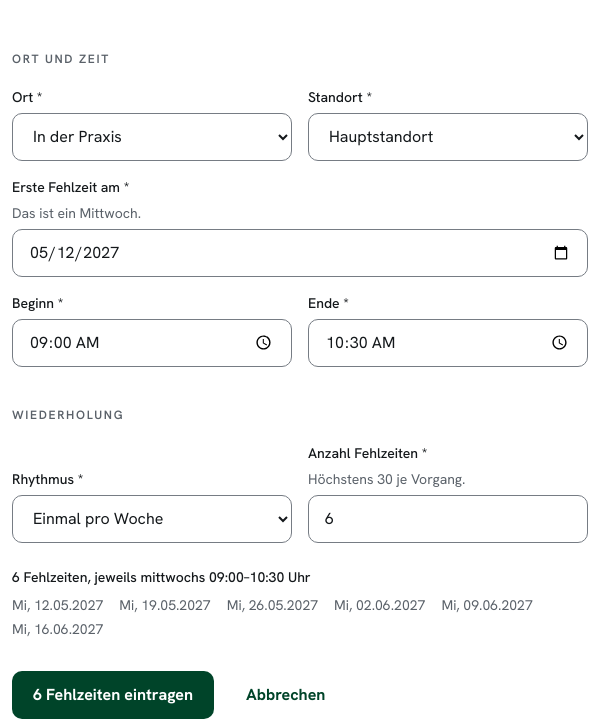
Test: NewEventPage als Dauerfehlzeit › meldet fehlende Pflichtangaben inline und sendet nicht
The image size is (605, 719).
(page scrolled)
Click the button "6 Fehlzeiten eintragen".
click(113, 695)  # box [12,671,214,718]
(page scrolled)
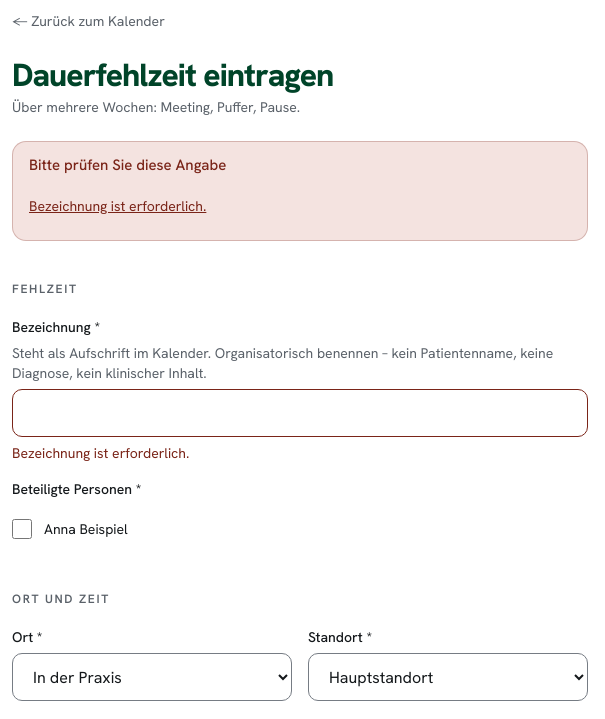
Expected: the text "Bezeichnung ist erforderlich." is shown, [12,444,189,462]
